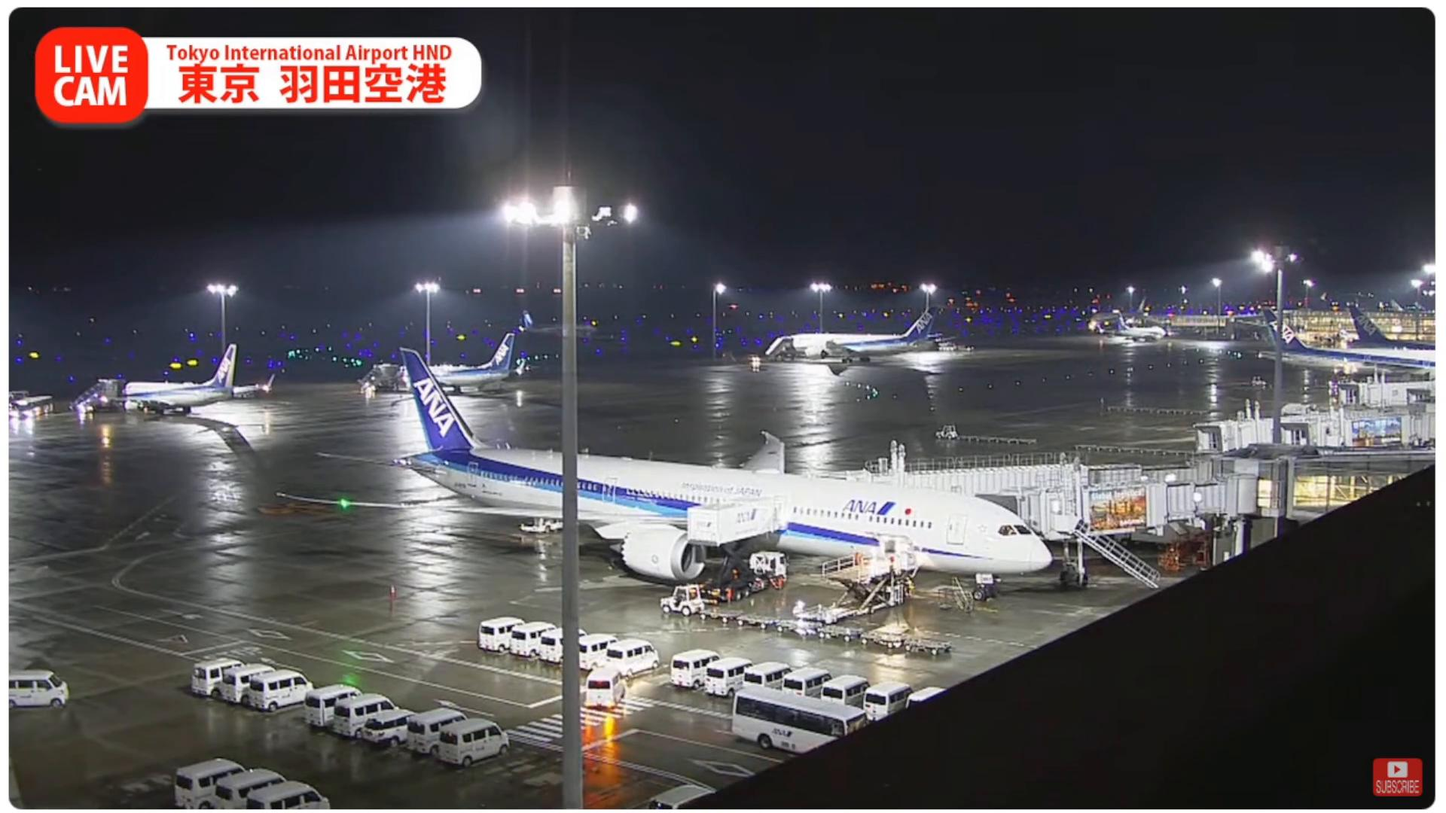Aerobridge: (899, 456, 1287, 522), (991, 479, 1253, 538)
Airplane: (273, 346, 1054, 587)
Catering: (688, 490, 790, 605)
Dolly: (708, 604, 964, 666)
JCPL: (809, 537, 913, 618)
Tractor: (653, 584, 707, 623)
Window: (1290, 451, 1437, 524)
